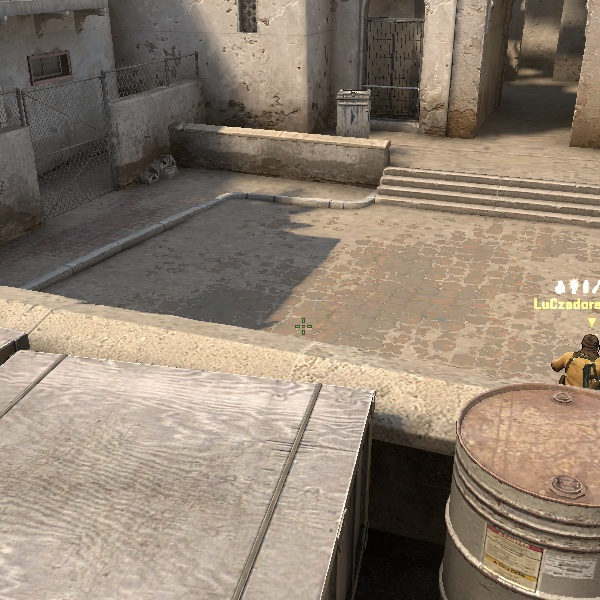t_body: (554, 332, 600, 391)
t_head: (576, 332, 600, 364)
